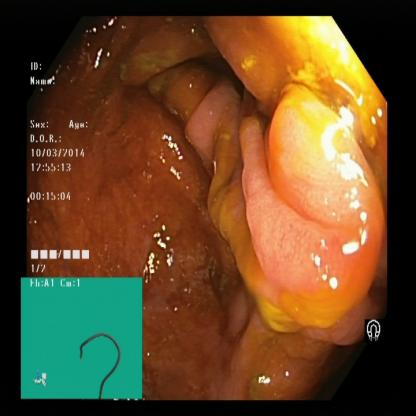Labels: (26, 56, 96, 279), (21, 280, 142, 398)
Polyps: (239, 98, 372, 301)
